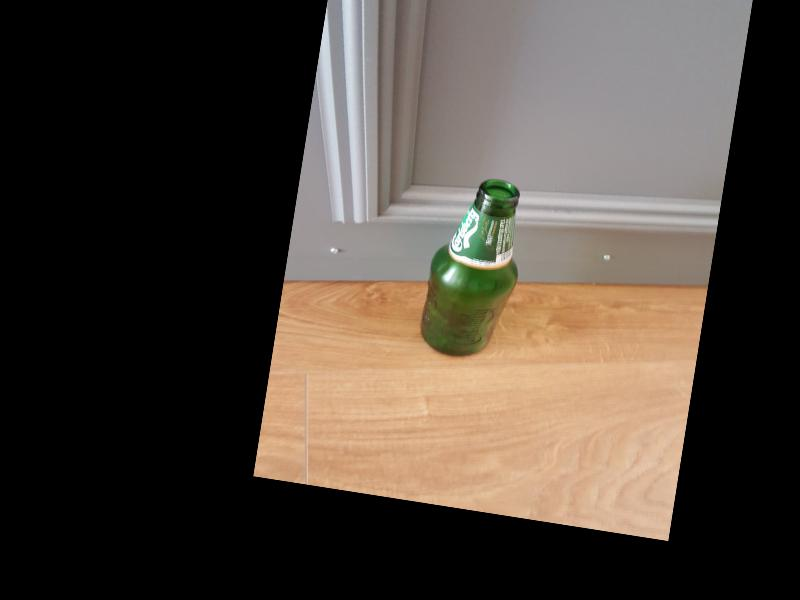Beer: (415, 171, 532, 364)
